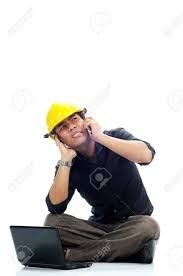helmet: (45, 101, 90, 138)
person with partial safety: (44, 101, 161, 264)
